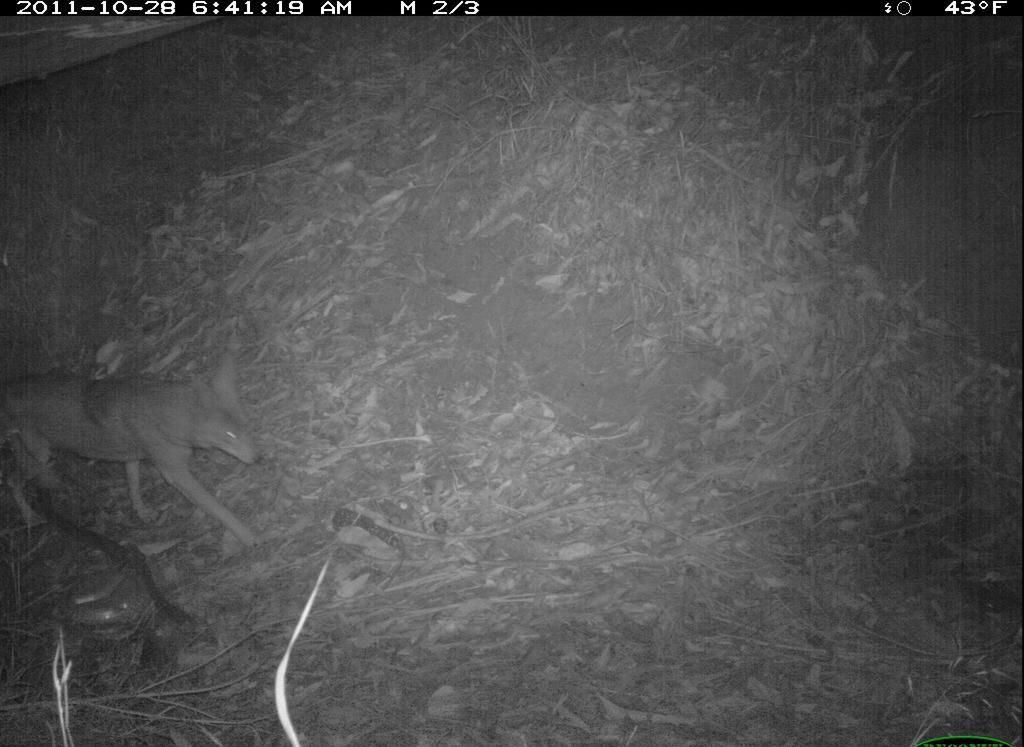coyote: (3, 338, 289, 564)
